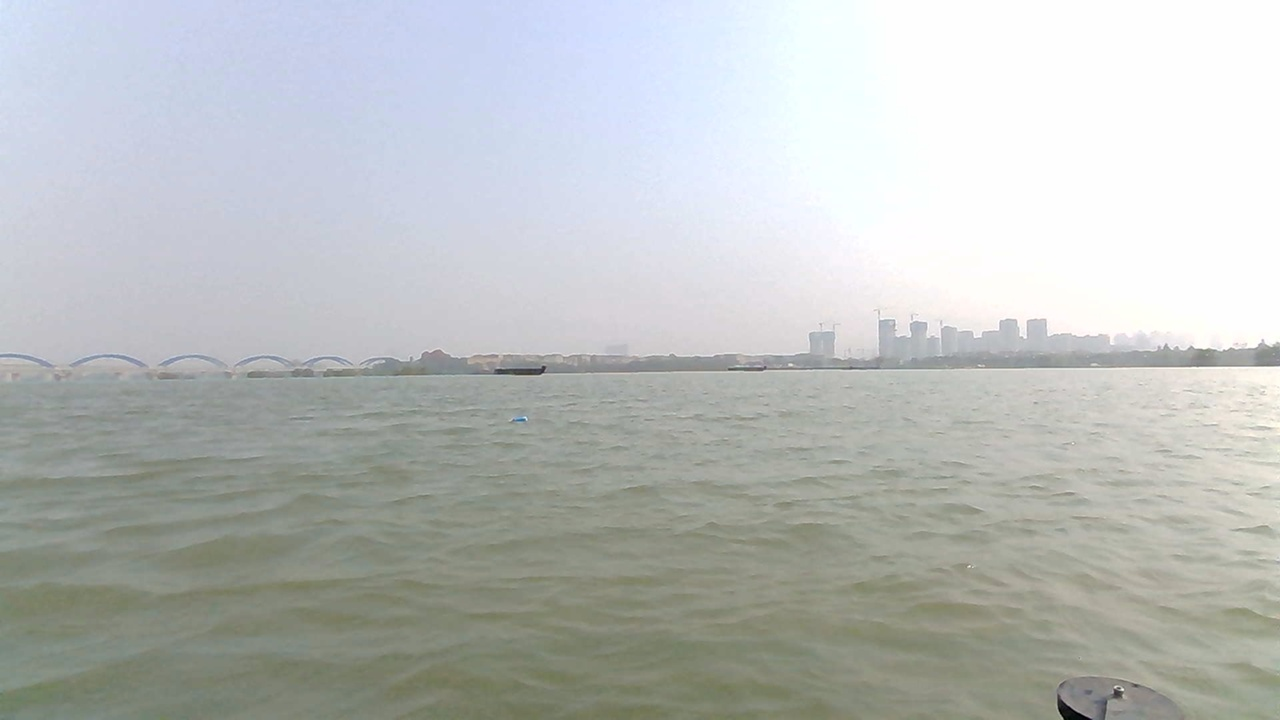bottle: (507, 412, 536, 426)
